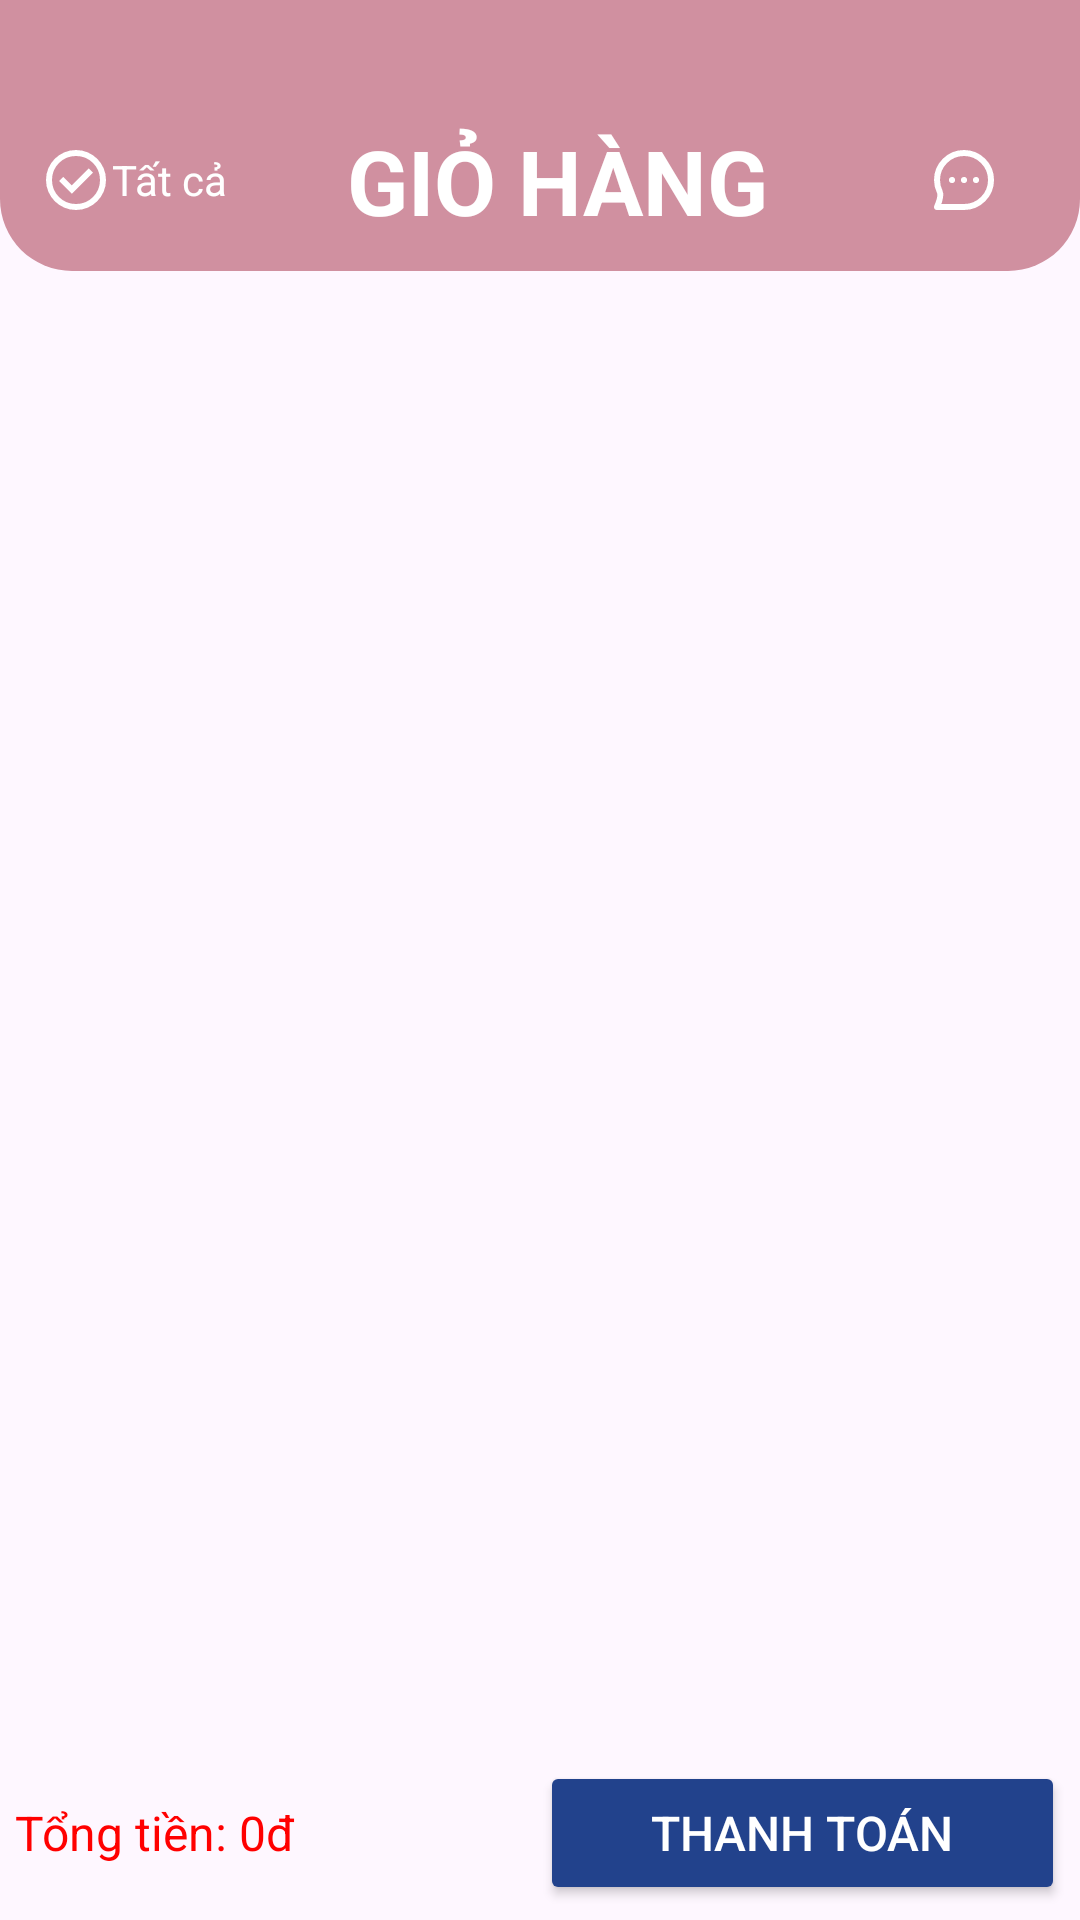

Icon click points for this 1080x1920 phone screenshot, format [x,y]:
mess: [964,180]
tick: [76,180]
